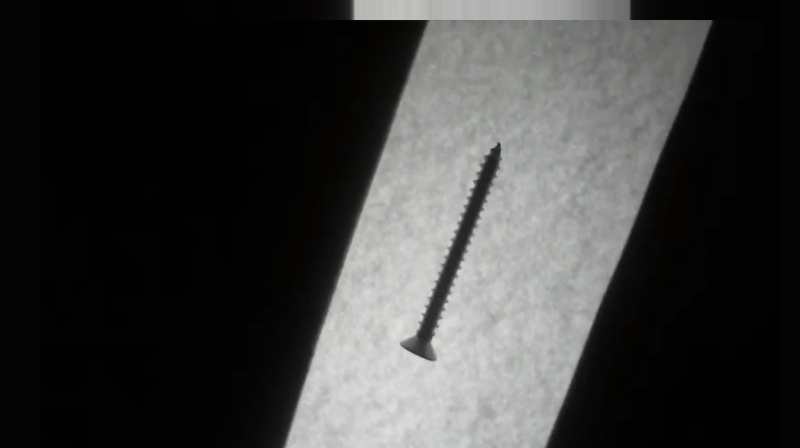S002: (397, 138, 504, 363)
